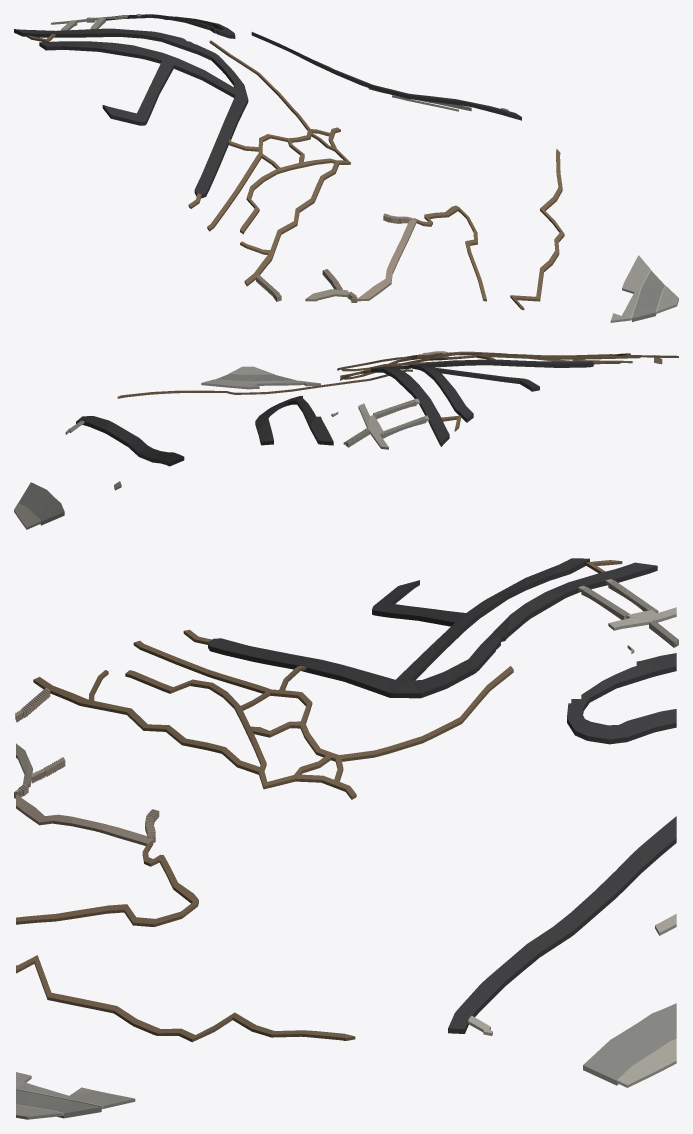
3 renders of one model, top to bottom at view 1: azimuth 30°, elevation 25°; view 2: azimuth 150°, elevation 25°; view 3: azimuth 270°, elevation 25°, orthographic. The views are drawn at different scales.
Bounding box in the file's own units: 147 × 72.19 × 147.
